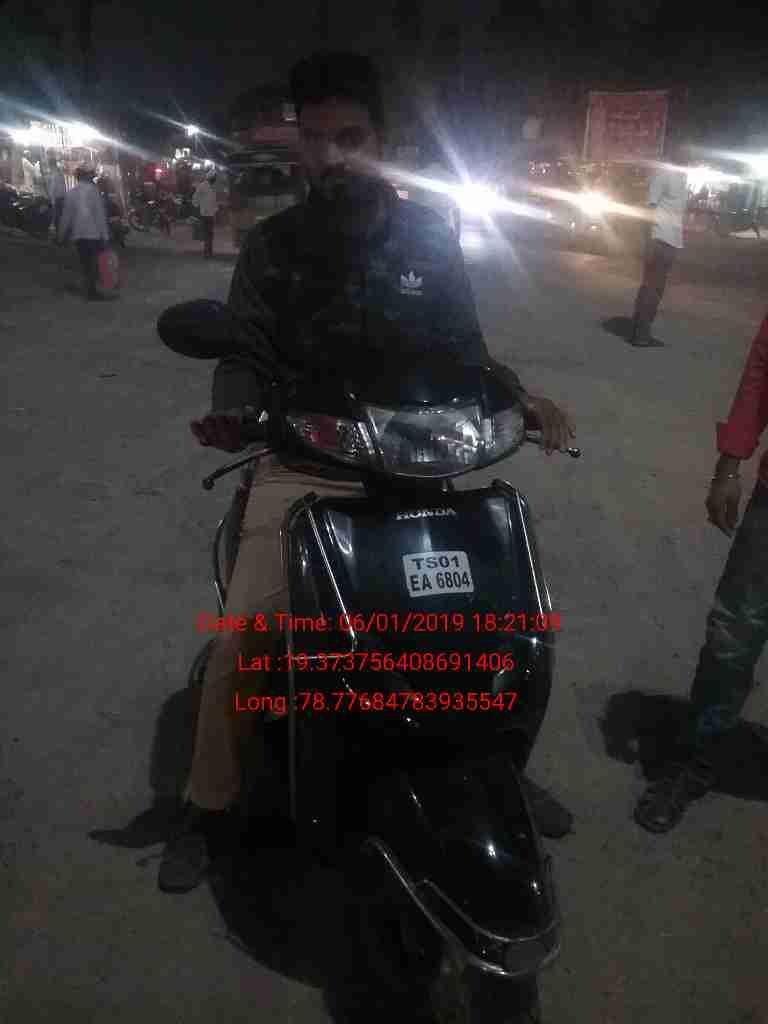plate: (404, 539, 494, 605)
